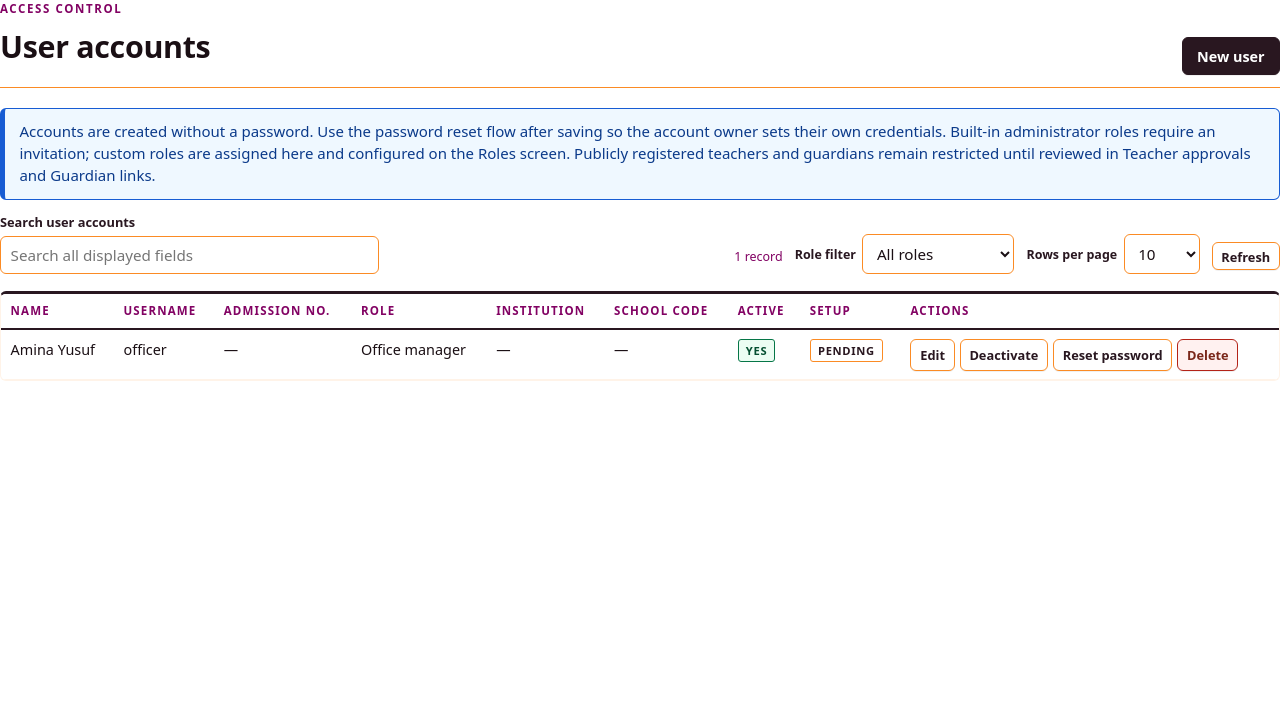
Test case: Users custom role assignment › confirms deletion in a dialog on a normal click
Later steps or results of the test are not shown.
Step 1. Click the button with aria-label "Delete Amina Yusuf" → (1208, 355), box [1177,339,1238,371]
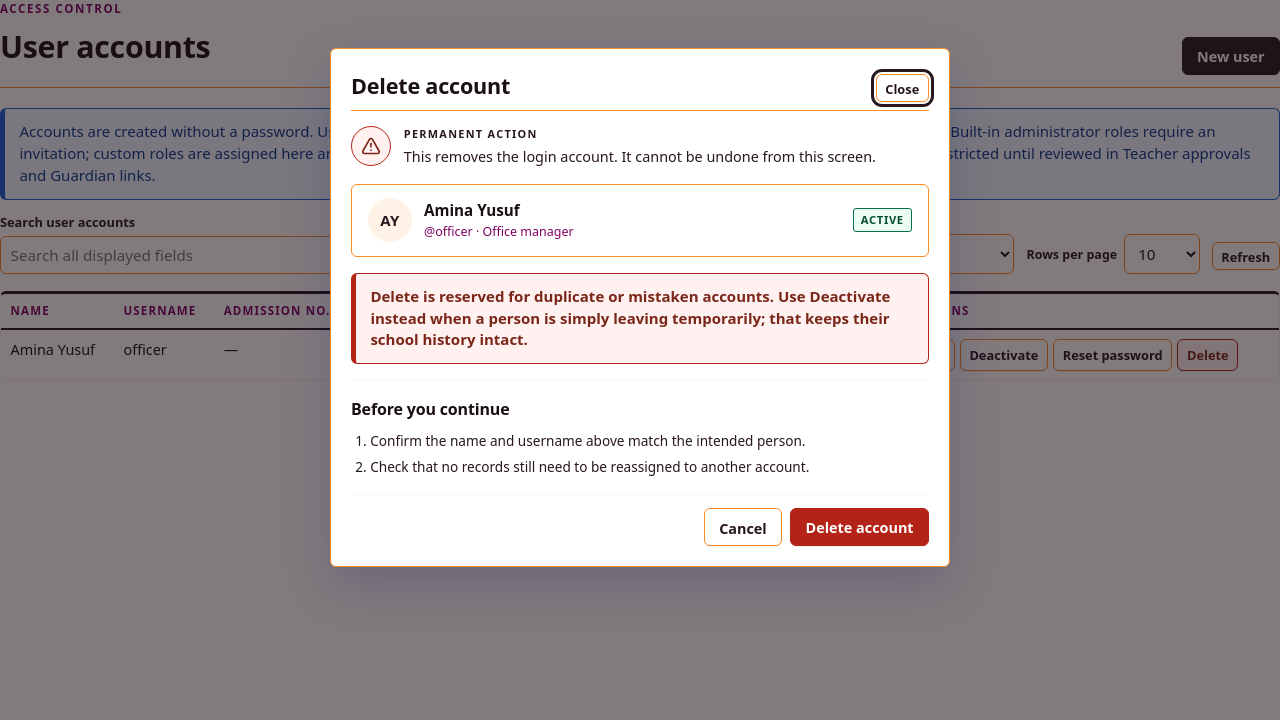
Expected: the text "reserved for duplicate or mistaken accounts" is shown, [370,286,890,349]
